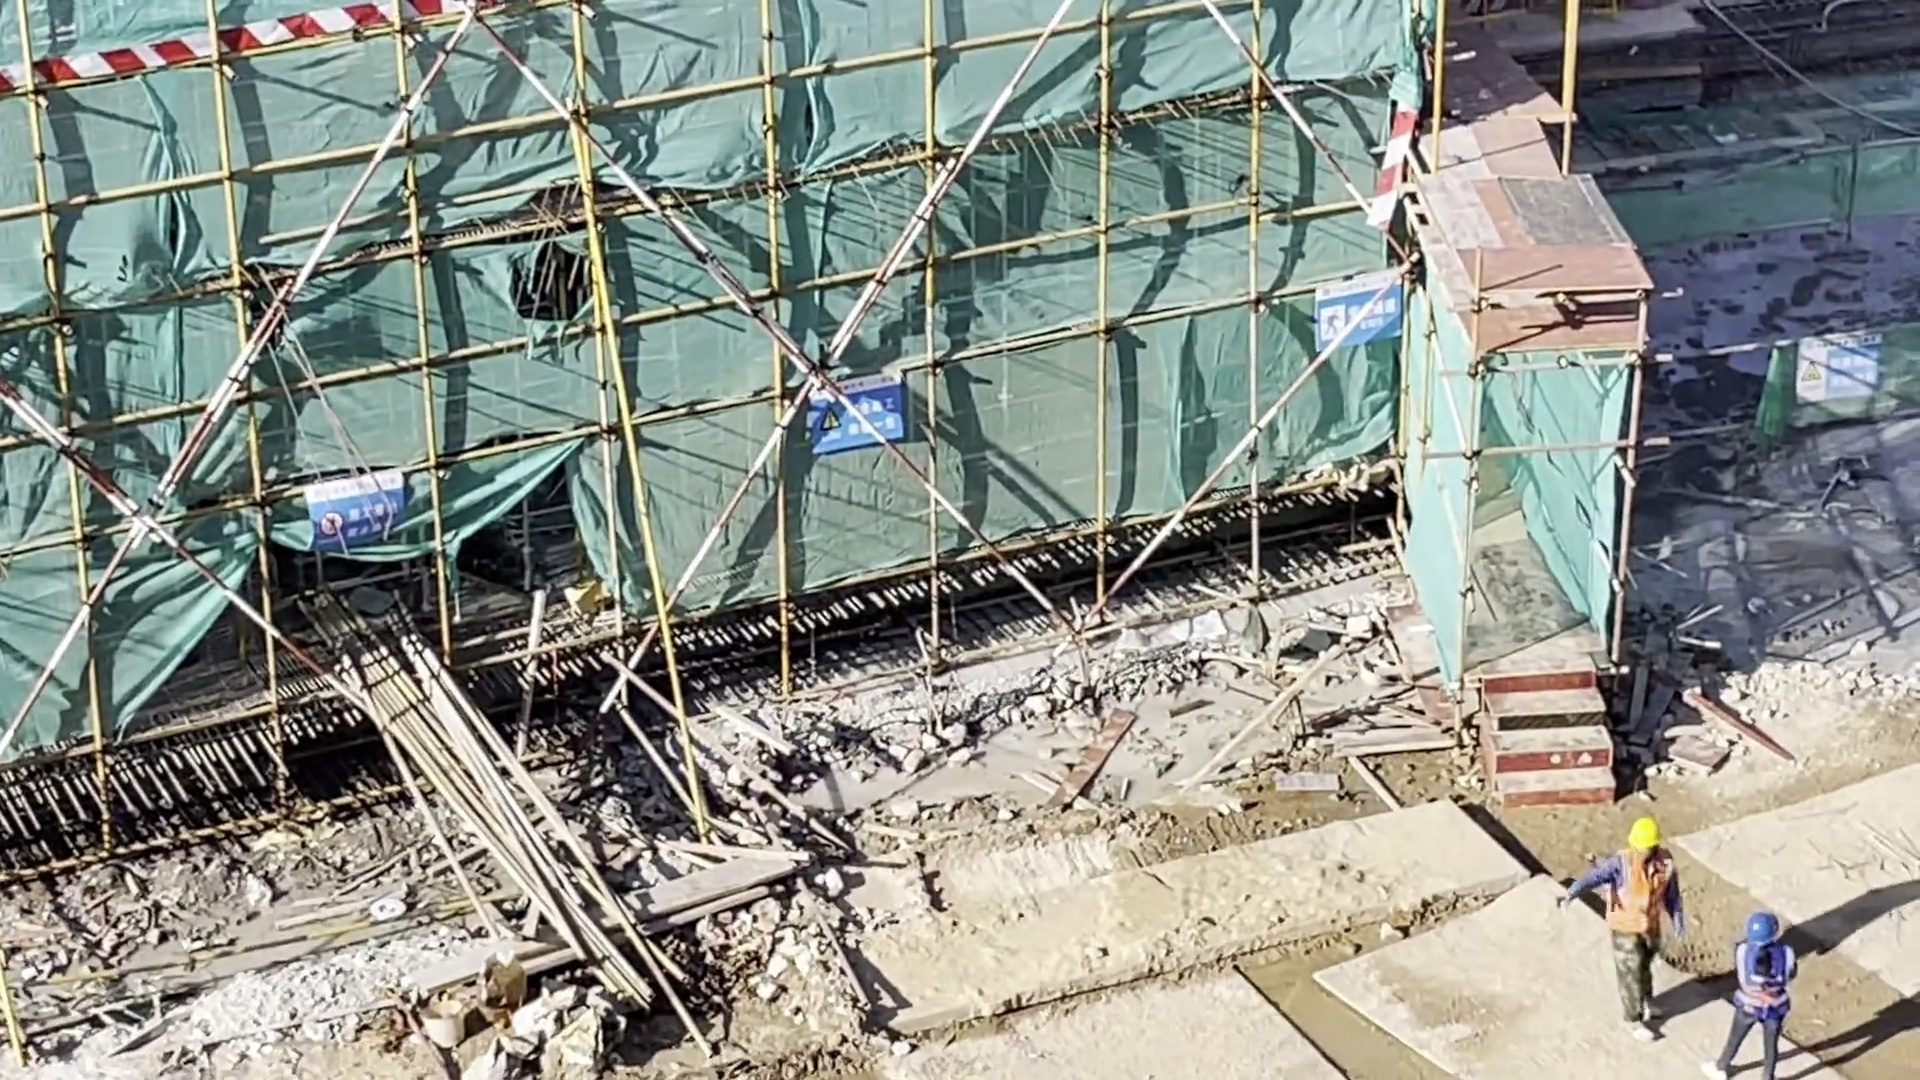helmet: (1743, 894, 1788, 952), (1619, 805, 1663, 864)
person: (1554, 809, 1688, 1037), (1703, 890, 1832, 1080)
slogan: (758, 357, 915, 450), (291, 469, 417, 566), (1307, 262, 1420, 361)
vest: (1597, 849, 1669, 949), (1730, 934, 1795, 1019)
